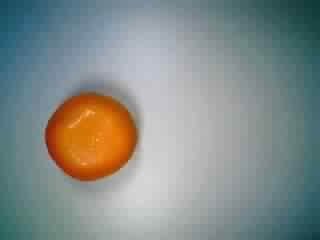orange: (44, 88, 143, 185)
